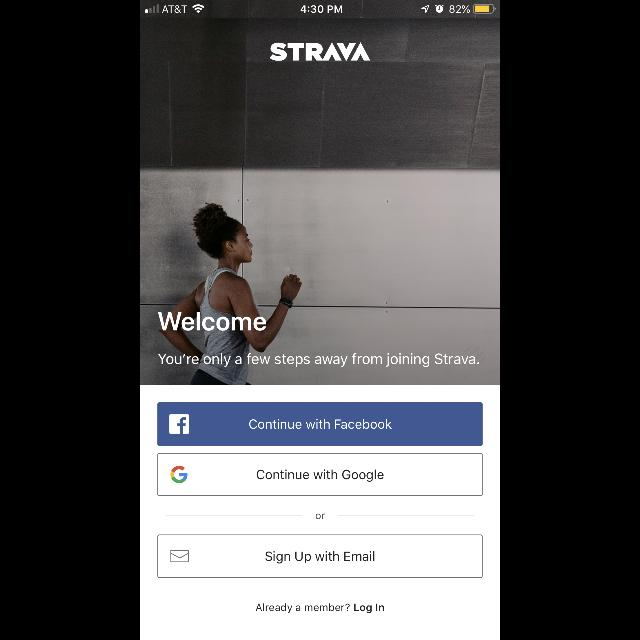image: (140, 1, 500, 385), (270, 43, 370, 61)
text: (158, 353, 480, 367), (158, 313, 266, 332), (256, 603, 384, 613), (316, 513, 324, 519)
textbutton: (158, 534, 482, 578), (158, 402, 482, 446), (158, 454, 482, 496)
uppertaskbar: (140, 0, 500, 14)
